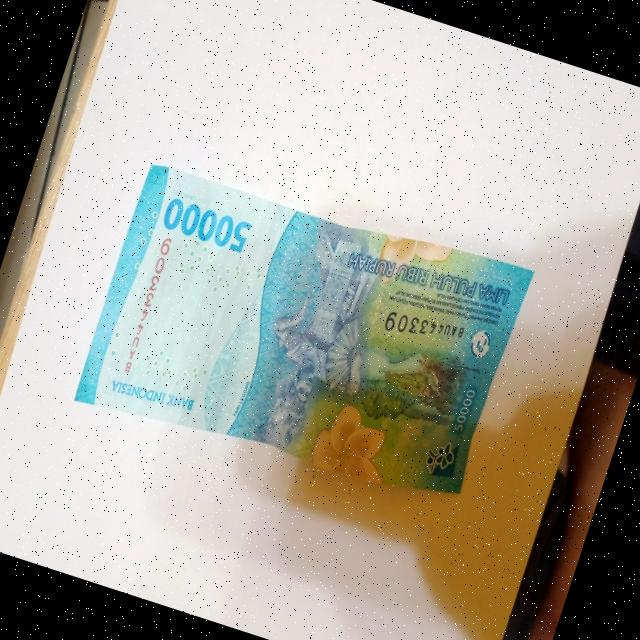50K: (63, 132, 548, 536)
